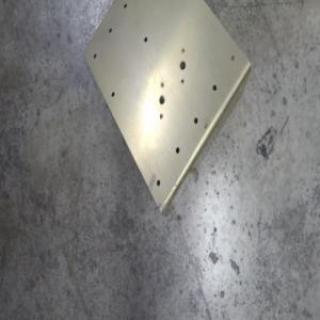MetalSheettrack_idkeyframe: (81, 0, 252, 217)
